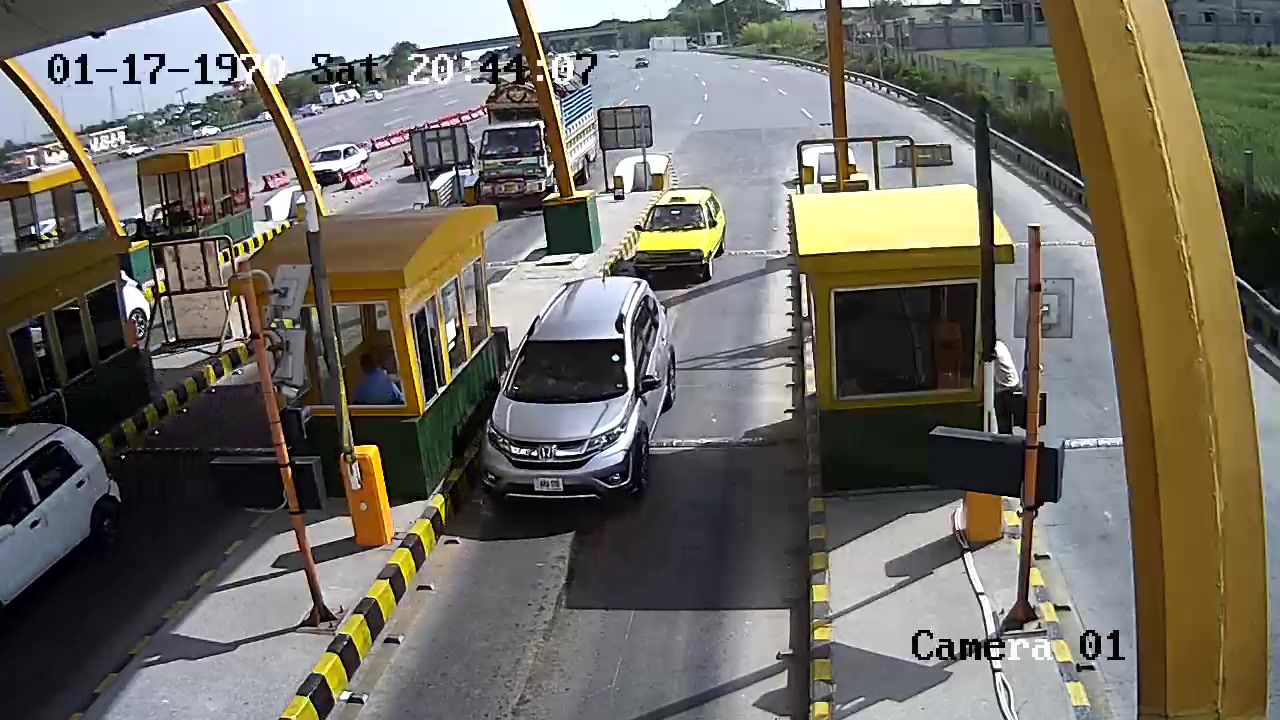F1: (483, 273, 686, 508)
